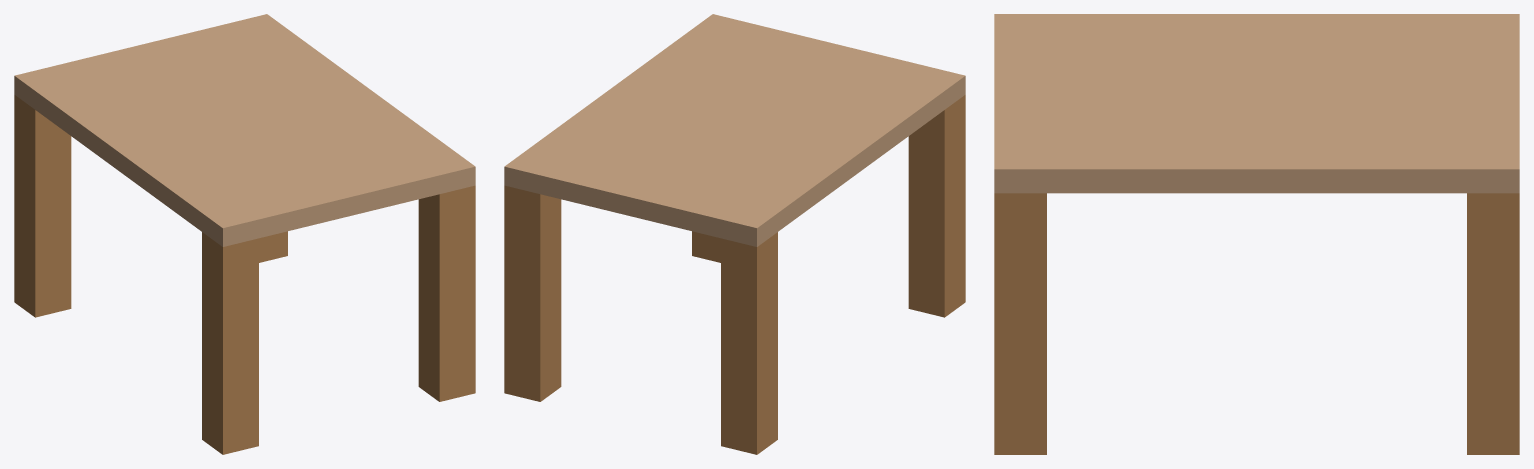
Rendered from wooden_table.gltf.
3 views of the same model, side by side, from view 1: azimuth 30°, elevation 25°; view 2: azimuth 150°, elevation 25°; view 3: azimuth 270°, elevation 25° (orthographic). The views are drawn at different scales.
Parts seen in each view (by area): view 1: Layer.1; view 2: Layer.1; view 3: Layer.1.
Boxes of the visible parts, <box> form: Layer.1: <box>14,14,475,454</box>; Layer.1: <box>504,14,965,454</box>; Layer.1: <box>994,14,1519,454</box>.
Size of the model in its own units: 14 by 12 by 20.
